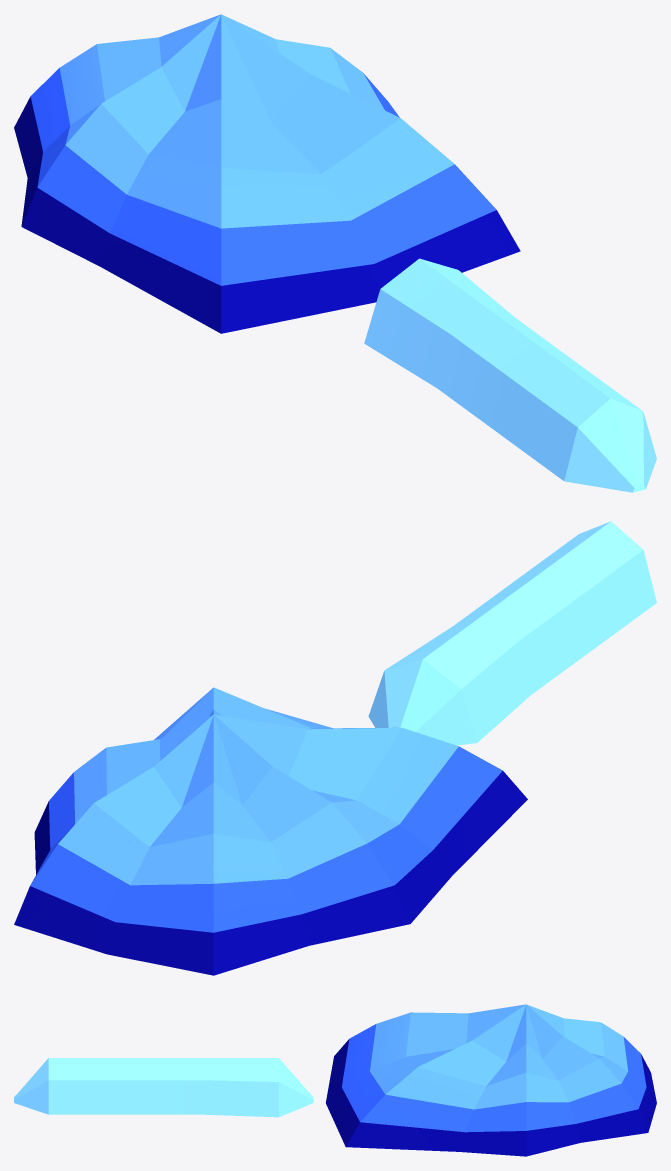
Rendered from shot_ice_151.glb.
The picture shows the model from 3 angles, top to bottom: view 1: azimuth 30°, elevation 25°; view 2: azimuth 150°, elevation 25°; view 3: azimuth 270°, elevation 25°; orthographic projection. The views are drawn at different scales.
Parts seen in each view (by area): view 1: shot_ice_151_cap, shot_ice_151_trail; view 2: shot_ice_151_cap, shot_ice_151_trail; view 3: shot_ice_151_cap, shot_ice_151_trail.
Part boxes in pixels (x1,y1,x2,y2): shot_ice_151_cap: [14, 14, 520, 333]; shot_ice_151_trail: [364, 258, 656, 492]; shot_ice_151_cap: [14, 687, 527, 975]; shot_ice_151_trail: [368, 521, 656, 745]; shot_ice_151_cap: [326, 1004, 656, 1156]; shot_ice_151_trail: [14, 1058, 313, 1117].
Size of the model in its own units: 3.46 by 1.42 by 8.37.
